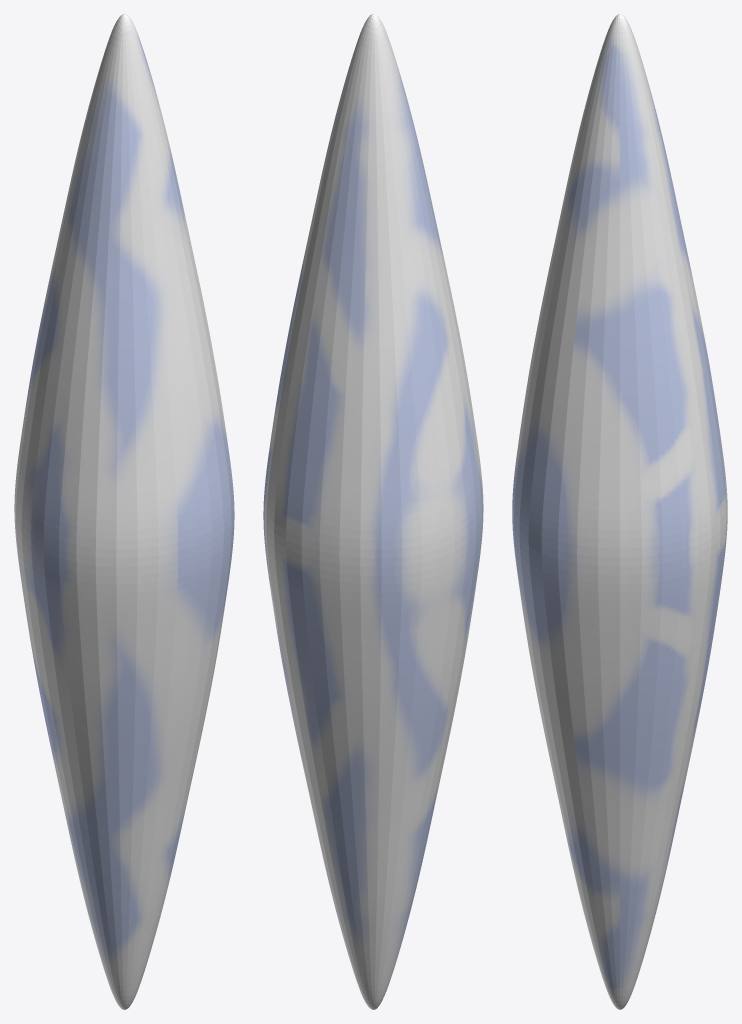
The model's file is Icicle.glb.
3 renders of one model, left to right at view 1: azimuth 30°, elevation 25°; view 2: azimuth 150°, elevation 25°; view 3: azimuth 270°, elevation 25°, orthographic.
Visible parts, largest first — view 1: Cube; view 2: Cube; view 3: Cube.
Part boxes in pixels (x1,y1,x2,y2): Cube: (14,14,234,1009); Cube: (263,14,483,1009); Cube: (512,14,727,1009).
Bounding box in the file's own units: 0.1941 × 0.9885 × 0.1941.
1 material, 1 textured.
